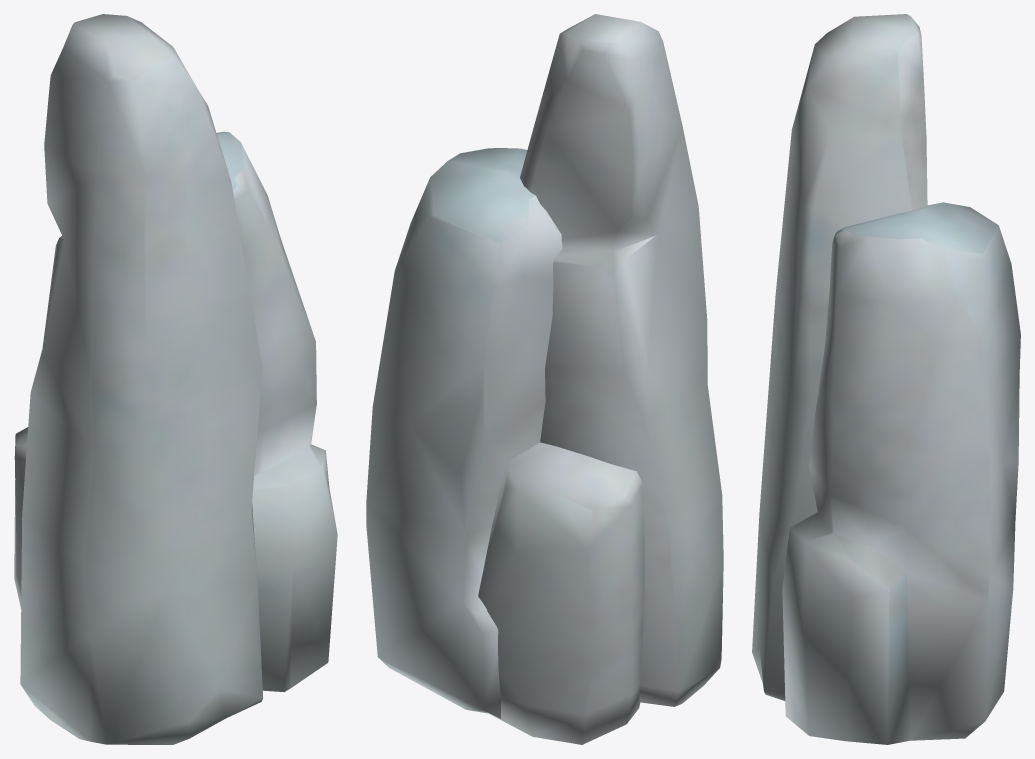
Rendered from P_RockSpire_Spire01.obj.
3 renders of one model, left to right at view 1: azimuth 30°, elevation 25°; view 2: azimuth 150°, elevation 25°; view 3: azimuth 270°, elevation 25°, orthographic. The views are drawn at different scales.
Size of the model in its own units: 28.2 by 63.09 by 23.46.
